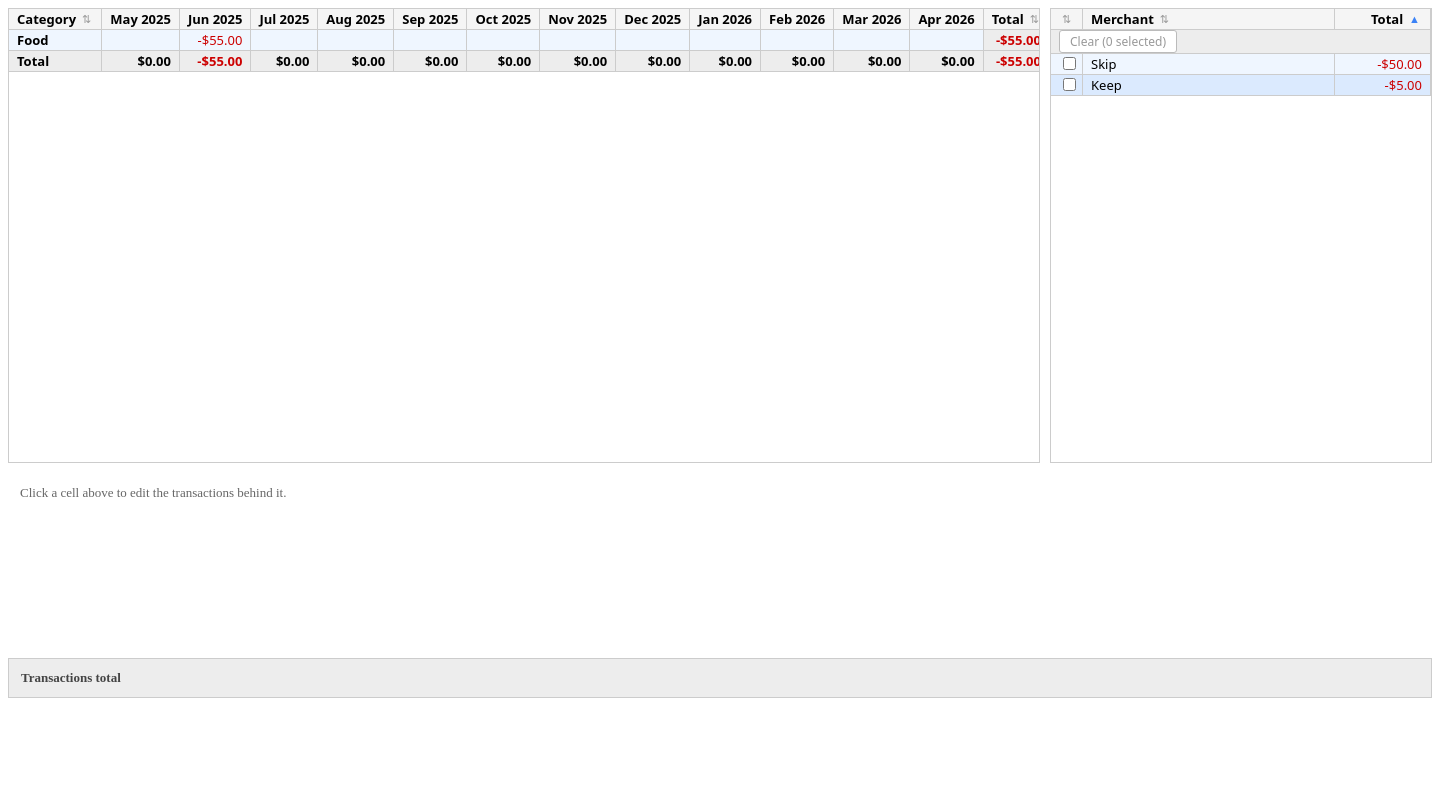
Report component › clicking a merchant checkbox narrows the pivot totals to that merchant
This screenshot has width=1440, height=810.
Check: the cell with class "report-total-cell" reads "-$55.00", box top-left (996, 31), bottom-right (1040, 49)
Click the checkbox named "Keep": point(1070, 84) top-left (1063, 78), bottom-right (1076, 91)
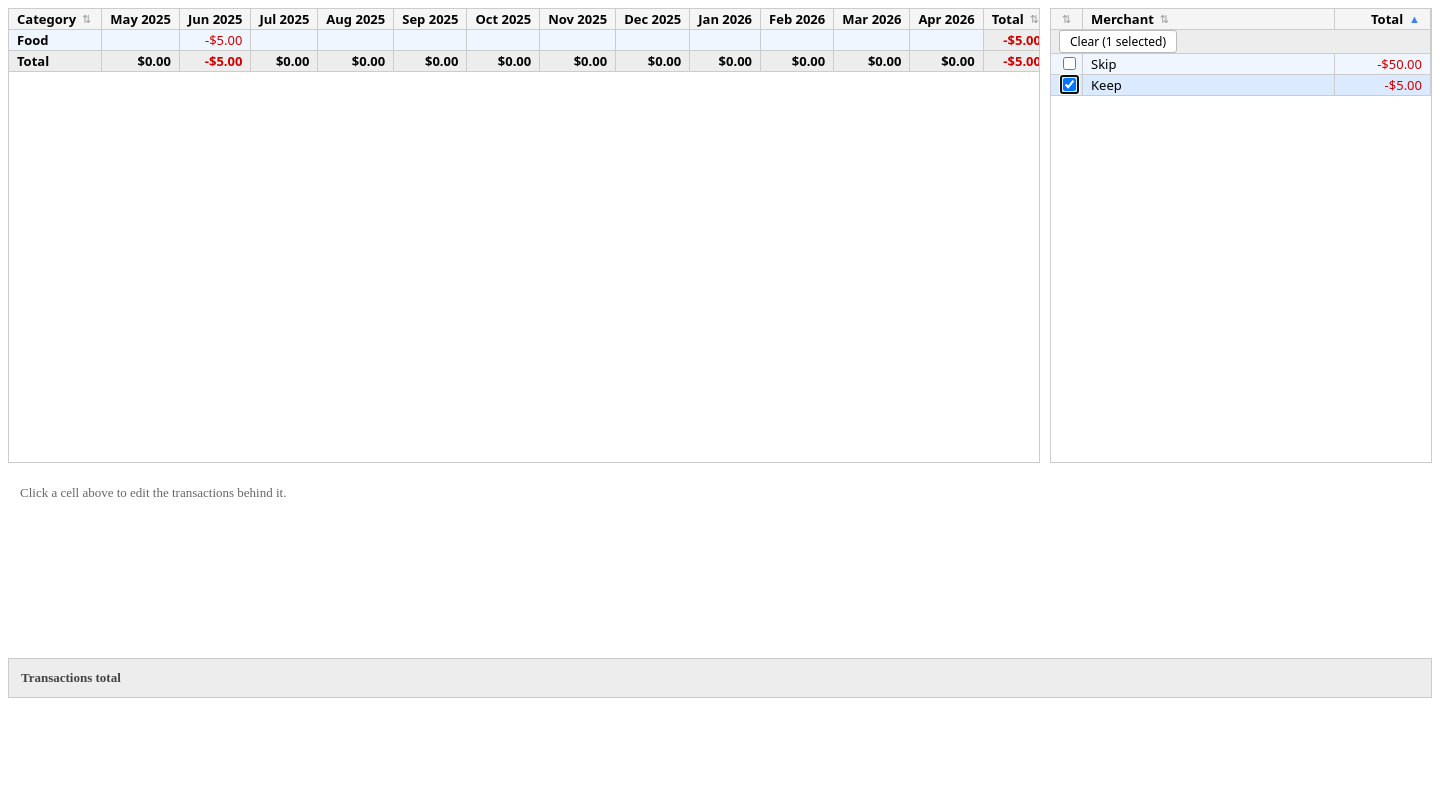
Check: the cell with class "report-total-cell" reads "-$5.00", box top-left (1003, 31), bottom-right (1040, 49)
